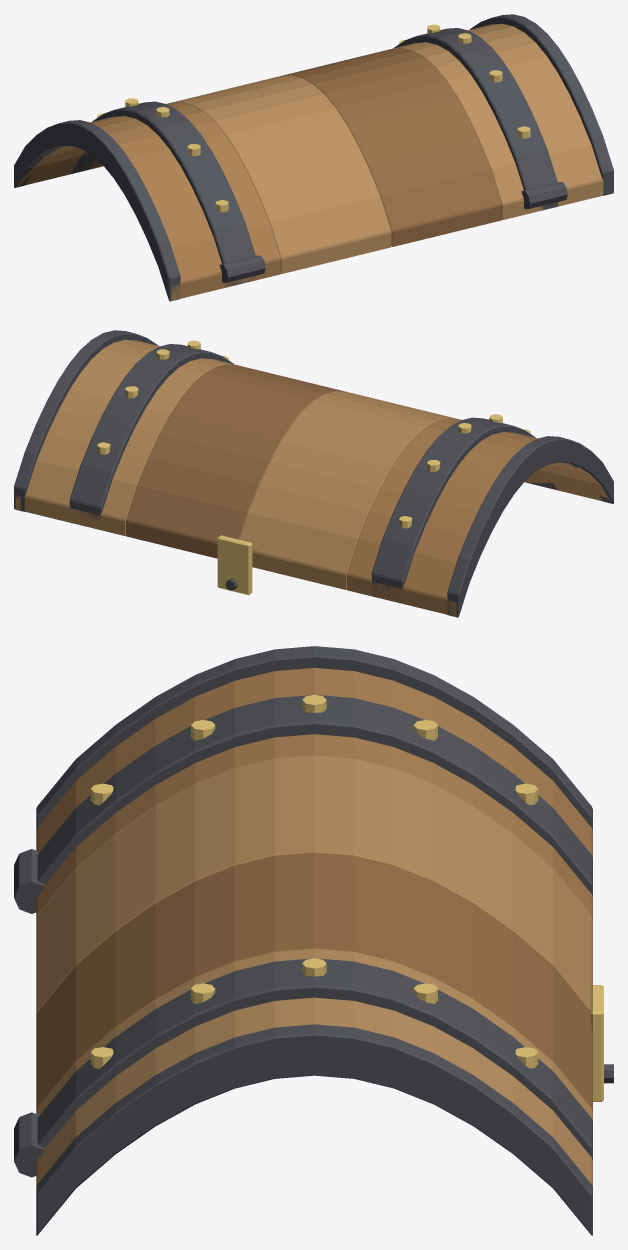
File: truhe_deckel.glb
3 views of the same model, one above another, from view 1: azimuth 30°, elevation 25°; view 2: azimuth 150°, elevation 25°; view 3: azimuth 270°, elevation 25° (orthographic). The views are drawn at different scales.
Visible parts, largest first — view 1: Truhe_Deckel; view 2: Truhe_Deckel; view 3: Truhe_Deckel.
Part boxes in pixels (x1,y1,x2,y2): Truhe_Deckel: (14, 14, 613, 301); Truhe_Deckel: (14, 330, 613, 617); Truhe_Deckel: (14, 646, 613, 1235).
Bounding box in the file's own units: 0.826 × 0.255 × 0.539.
